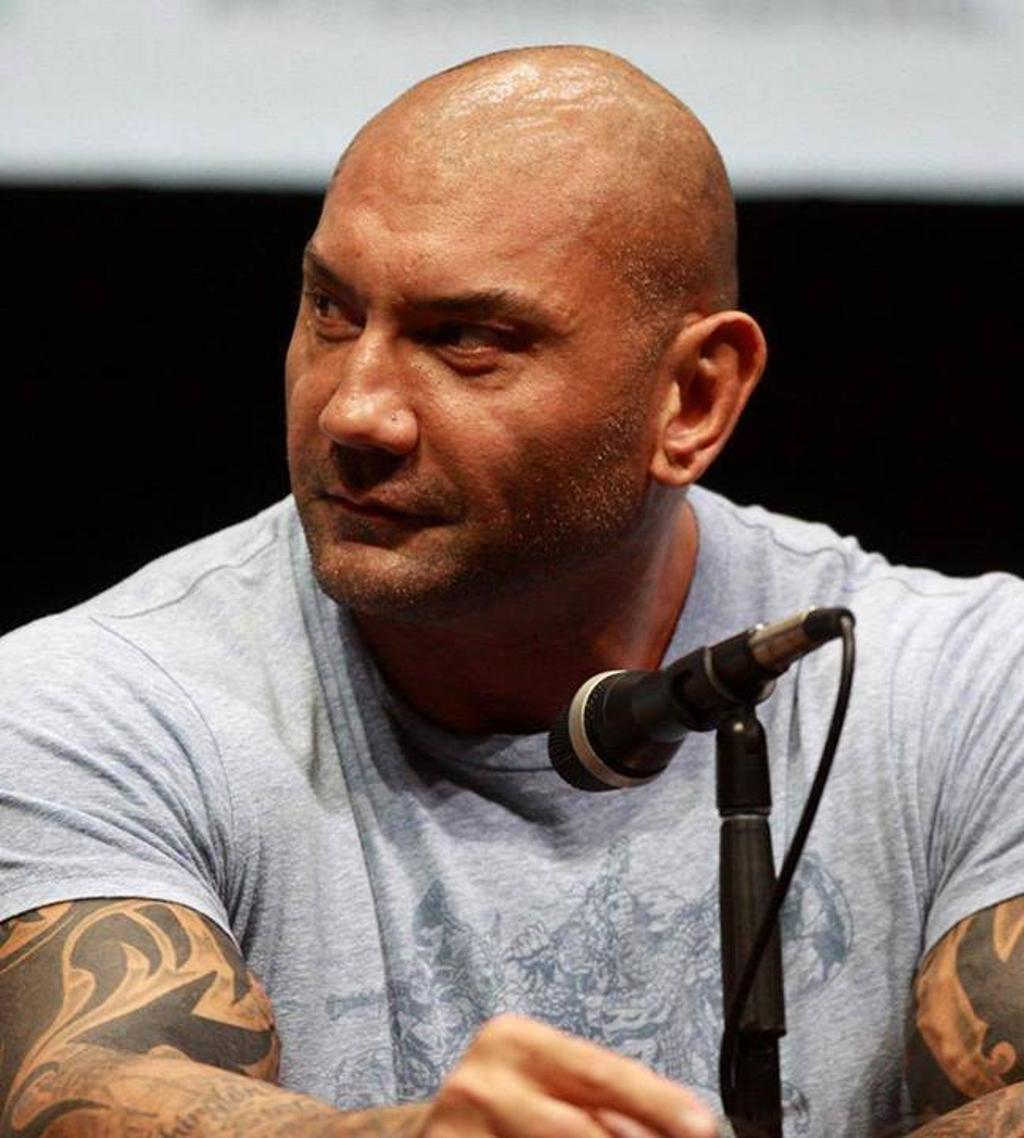face: (287, 160, 654, 611)
